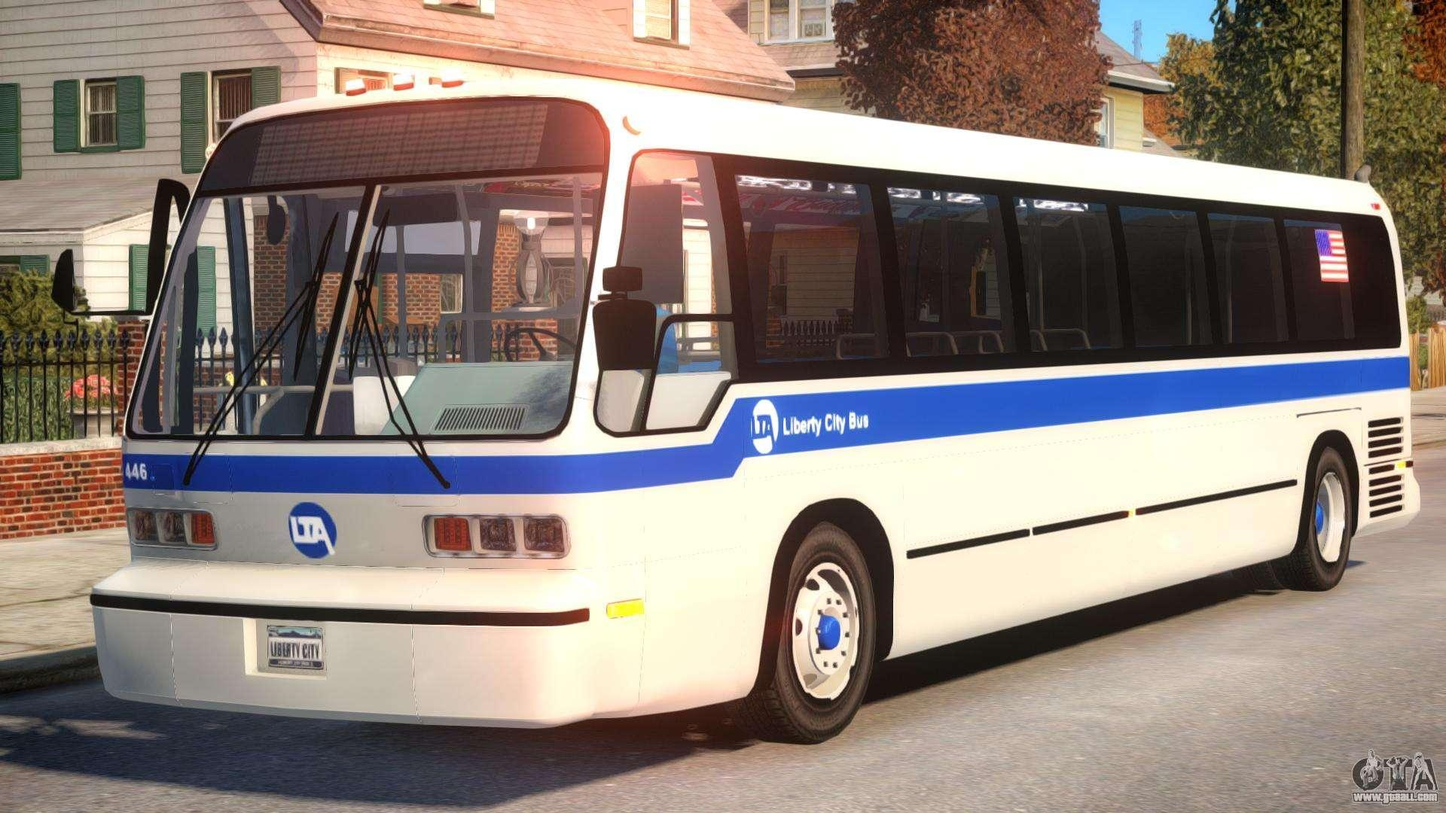Bus: (84, 80, 1420, 748)
